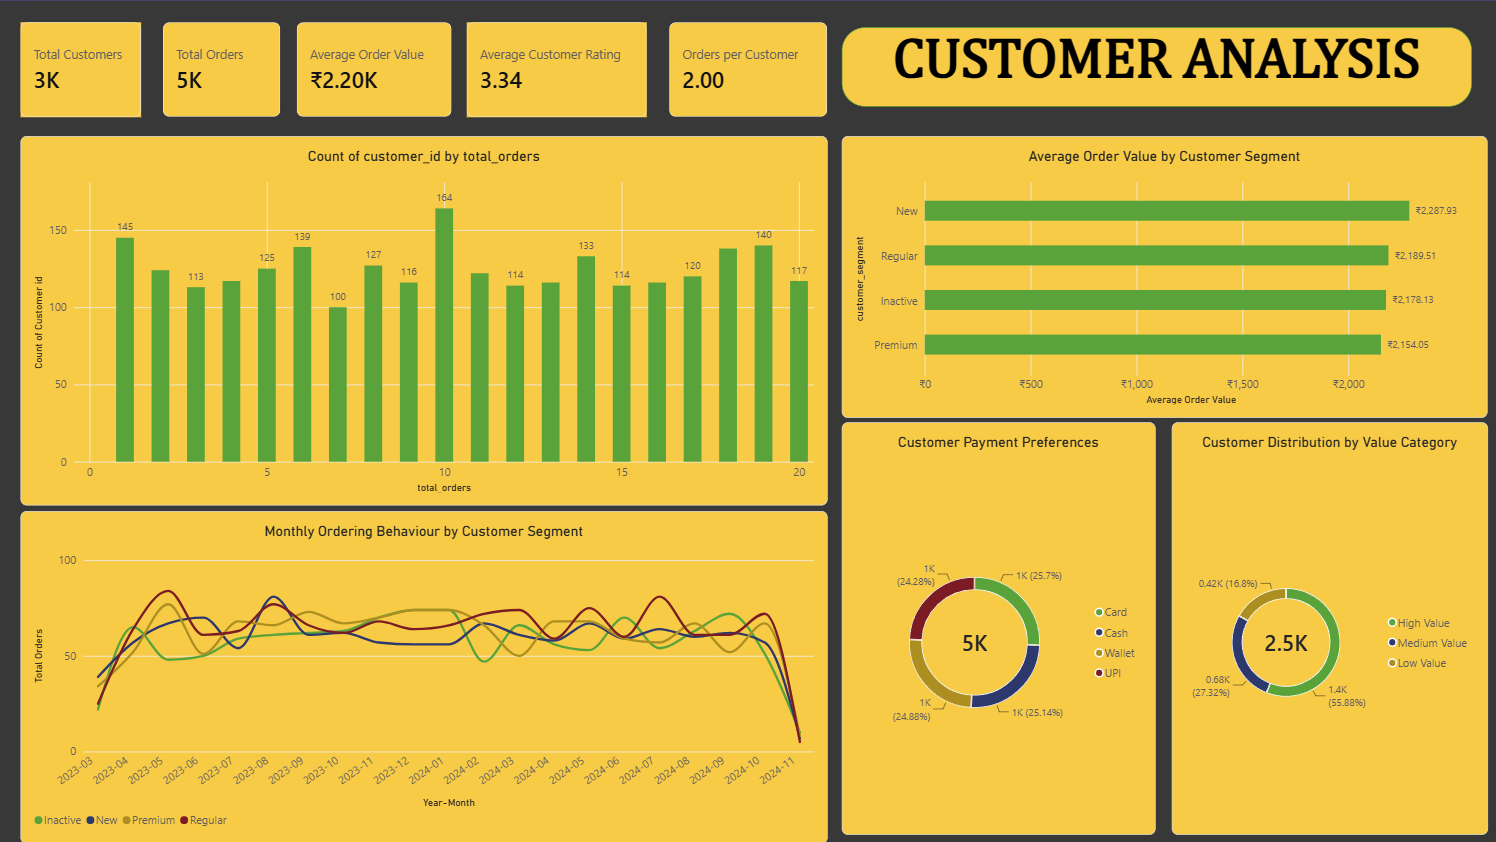

This screenshot's page, from the dashboard's own definition file:
{"tool":"powerbi","page":{"name":"CUSTOMER BEHAVIOUR","canvas":[1920,1080],"ordinal":6},"visuals":[{"type":"cardVisual","fields":{"Data":["blinkit_customer_feedback.Average Customer Rating"]},"box":[600,27.6,230.1,121.5],"z":0},{"type":"cardVisual","fields":{"Data":["blinkit_orders.Total Orders"]},"box":[211.7,27.6,150.9,121.5],"z":1000},{"type":"cardVisual","fields":{"Data":["blinkit_customers.Orders per Customer"]},"box":[859.5,27.6,202.5,121.5],"z":2000},{"type":"cardVisual","fields":{"Data":["blinkit_orders.Average Order Value"]},"box":[382.8,27.6,198.8,121.5],"z":3000},{"type":"cardVisual","fields":{"Data":["blinkit_customers.Total Customers"]},"box":[29.4,27.6,154.6,121.5],"z":4000},{"type":"clusteredColumnChart","fields":{"Category":["blinkit_customers.total_orders"],"Y":["CountNonNull(blinkit_customers.customer_id)"]},"box":[29.4,173,1032.5,473],"z":5000},{"type":"donutChart","title":"Customer Payment Preferences","fields":{"Category":["blinkit_orders.payment_method"],"Y":["blinkit_orders.Total Orders"]},"box":[1080.4,539.3,401.2,528.2],"z":6000},{"type":"lineChart","title":"Monthly Ordering Behaviour by Customer Segment","fields":{"Category":["DateTable.Year-Month"],"Series":["blinkit_customers.customer_segment"],"Y":["blinkit_orders.Total Orders"]},"box":[29.4,653.4,1032.5,427],"z":7000},{"type":"clusteredBarChart","title":"Average Order Value by Customer Segment","fields":{"Category":["blinkit_customers.customer_segment"],"Y":["blinkit_orders.Average Order Value"]},"box":[1080.4,173,826.4,360.7],"z":8000},{"type":"donutChart","title":"Customer Distribution by Value Category","fields":{"Category":["blinkit_customers.Customer_Value_Category"],"Y":["CountNonNull(blinkit_customers.customer_id)"]},"box":[1501.8,539.3,404.9,528.2],"z":9000},{"type":"textbox","box":[1080.4,33.1,806.1,101.2],"z":10000}]}

Visuals, with their boxes in screenshot pixels (x1, y1, x2, y2), scaled from the page's 1920x1080 canvas onto the 1496x842 screenshot:
cardVisual - blinkit_customer_feedback.Average Customer Rating: (x1=468, y1=22, x2=647, y2=116)
cardVisual - blinkit_orders.Total Orders: (x1=165, y1=22, x2=283, y2=116)
cardVisual - blinkit_customers.Orders per Customer: (x1=670, y1=22, x2=827, y2=116)
cardVisual - blinkit_orders.Average Order Value: (x1=298, y1=22, x2=453, y2=116)
cardVisual - blinkit_customers.Total Customers: (x1=23, y1=22, x2=143, y2=116)
clusteredColumnChart - blinkit_customers.total_orders x CountNonNull(blinkit_customers.customer_id): (x1=23, y1=135, x2=827, y2=504)
"Customer Payment Preferences" donutChart: (x1=842, y1=420, x2=1154, y2=832)
"Monthly Ordering Behaviour by Customer Segment" lineChart: (x1=23, y1=509, x2=827, y2=841)
"Average Order Value by Customer Segment" clusteredBarChart: (x1=842, y1=135, x2=1486, y2=416)
"Customer Distribution by Value Category" donutChart: (x1=1170, y1=420, x2=1486, y2=832)
textbox: (x1=842, y1=26, x2=1470, y2=105)
